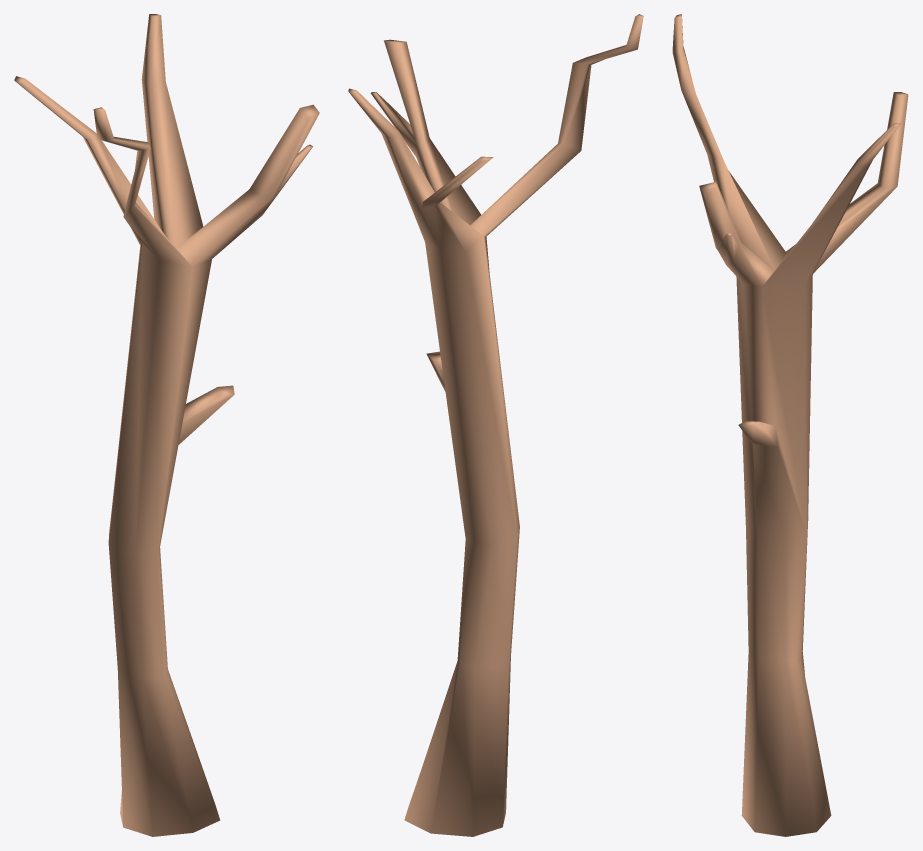
The model's file is tree_wol_00.fbx.
3 views of the same model, side by side, from view 1: azimuth 30°, elevation 25°; view 2: azimuth 150°, elevation 25°; view 3: azimuth 270°, elevation 25° (orthographic). The views are drawn at different scales.
Parts seen in each view (by area): view 1: bark; view 2: bark; view 3: bark.
Boxes of the visible parts, x1,y1,x2,y2 form: bark: [14, 14, 319, 836]; bark: [348, 14, 643, 836]; bark: [672, 14, 908, 836].
Bounding box in the file's own units: 216 × 660 × 190.
